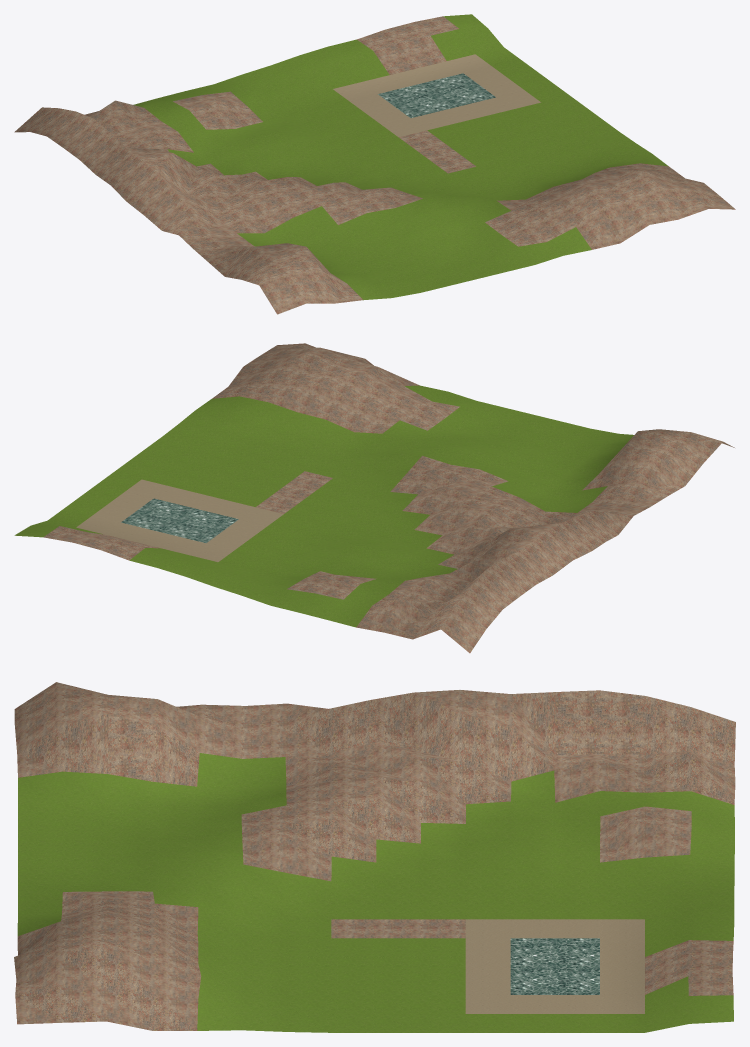
The model's file is Floor.obj.
The picture shows the model from 3 angles, top to bottom: view 1: azimuth 30°, elevation 25°; view 2: azimuth 150°, elevation 25°; view 3: azimuth 270°, elevation 25°; orthographic projection. The views are drawn at different scales.
Visible parts, largest first — view 1: Plane; view 2: Plane; view 3: Plane.
Part boxes in pixels (x1,y1,x2,y2): Plane: (14,14,735,314); Plane: (14,343,734,653); Plane: (14,682,735,1032).
Bounding box in the file's own units: 101 × 9.28 × 101.
4 materials, 4 textured.
